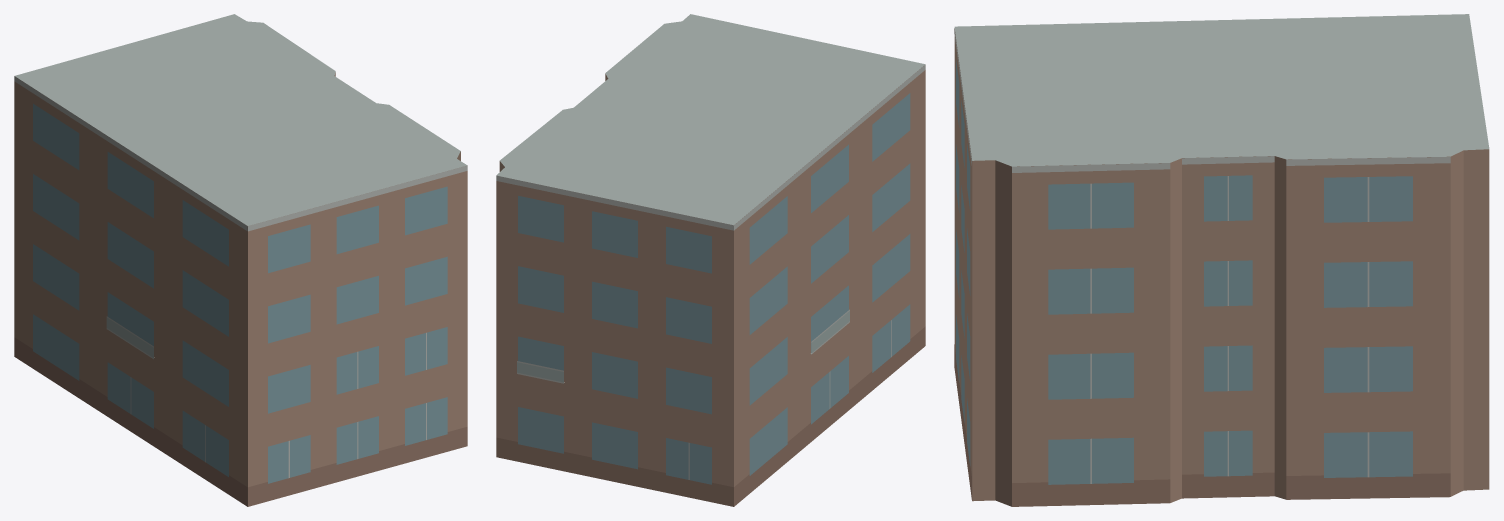
Rendered from survey-upis-32950433.glb.
3 views of the same model, side by side, from view 1: azimuth 30°, elevation 25°; view 2: azimuth 150°, elevation 25°; view 3: azimuth 270°, elevation 25° (orthographic). The views are drawn at different scales.
Parts seen in each view (by area): view 1: survey-upis-32950433.tmp; view 2: survey-upis-32950433.tmp; view 3: survey-upis-32950433.tmp.
Boxes of the visible parts, bbox=[...] form: survey-upis-32950433.tmp: bbox=[14, 14, 467, 506]; survey-upis-32950433.tmp: bbox=[496, 14, 925, 506]; survey-upis-32950433.tmp: bbox=[954, 14, 1489, 506].
Size of the model in its own units: 12.32 by 12.8 by 18.25.
